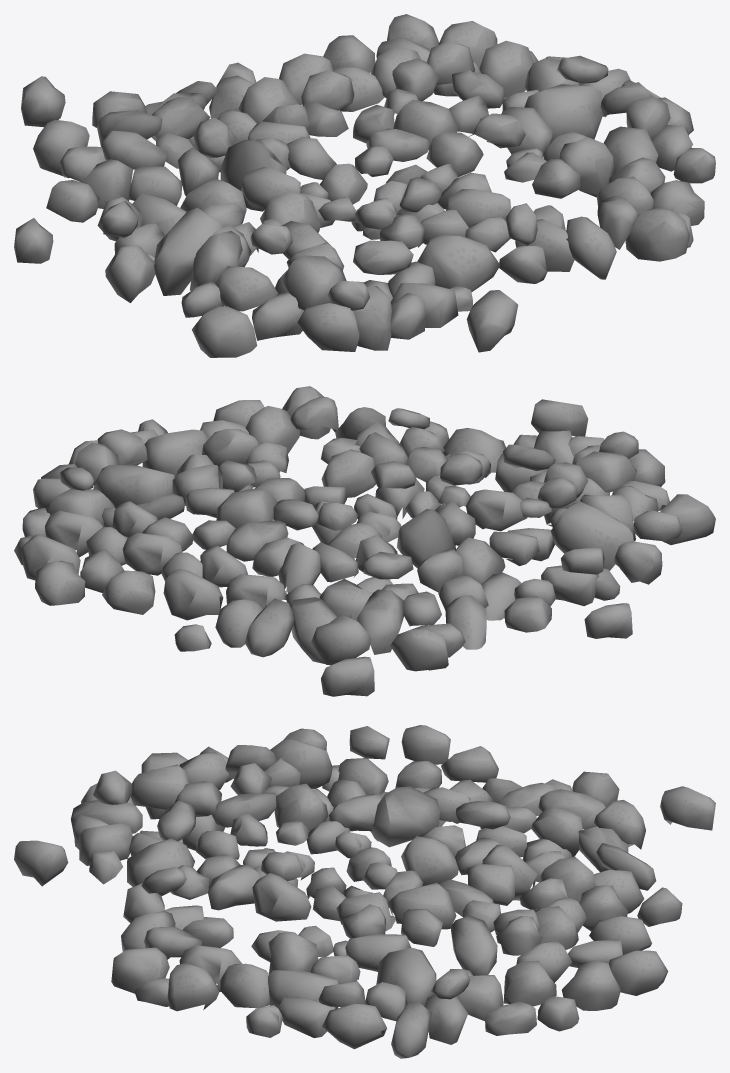
File: PebNest02.fbx
The picture shows the model from 3 angles, top to bottom: view 1: azimuth 30°, elevation 25°; view 2: azimuth 150°, elevation 25°; view 3: azimuth 270°, elevation 25°; orthographic projection. The views are drawn at different scales.
Parts seen in each view (by area): view 1: PebNest02; view 2: PebNest02; view 3: PebNest02.
Boxes of the visible parts, left/top/right/bottom form: PebNest02: left=14, top=14, right=715, bottom=357; PebNest02: left=14, top=386, right=715, bottom=696; PebNest02: left=14, top=725, right=715, bottom=1058.
Size of the model in its own units: 0.8296 by 0.1042 by 0.8152.
